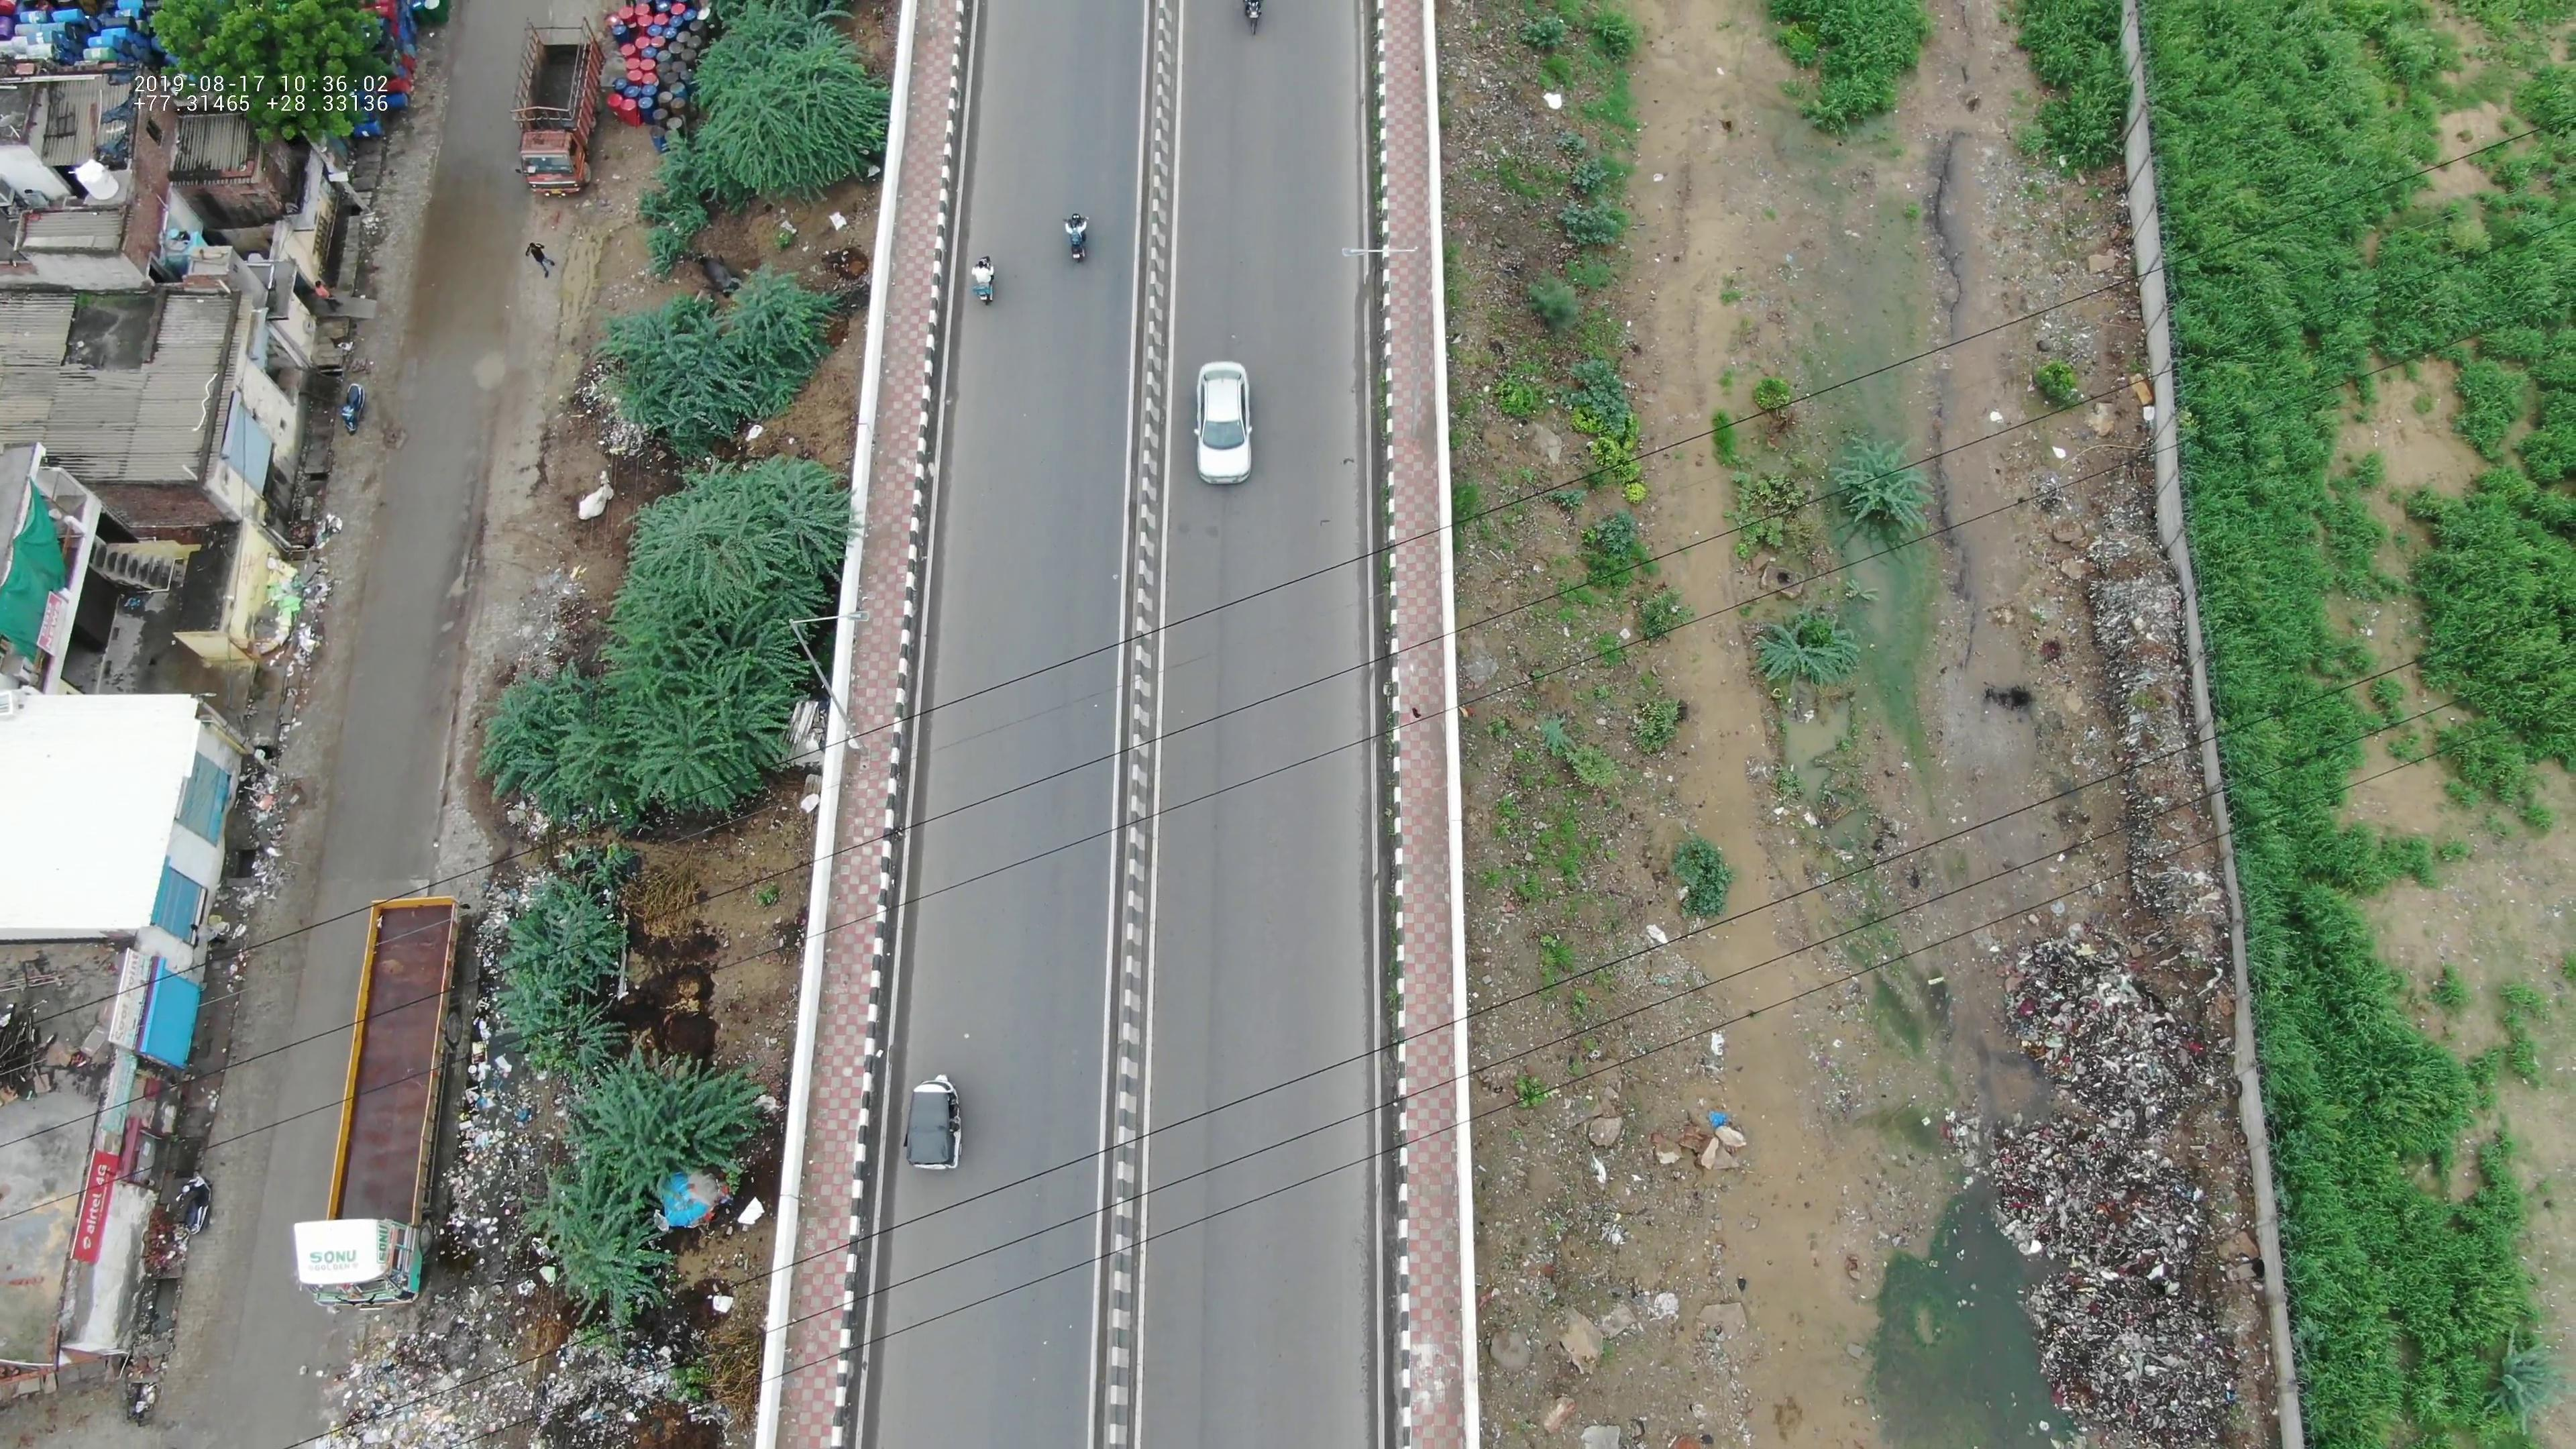Road_side_garbage: (341, 1028, 688, 1428), (2003, 934, 2247, 1415)
